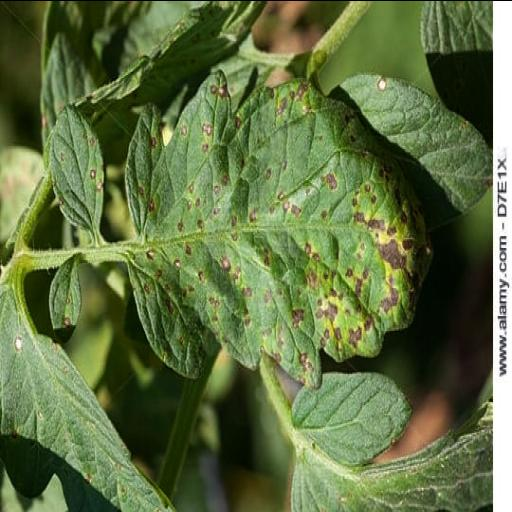disease_tomato: (120, 62, 436, 384), (0, 287, 176, 512), (324, 72, 492, 230), (50, 104, 108, 230), (47, 258, 81, 346)
